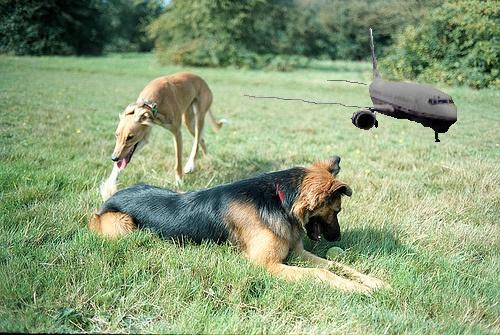tampered: (245, 29, 457, 142)
